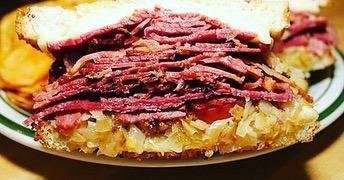soup: (12, 1, 337, 163)
